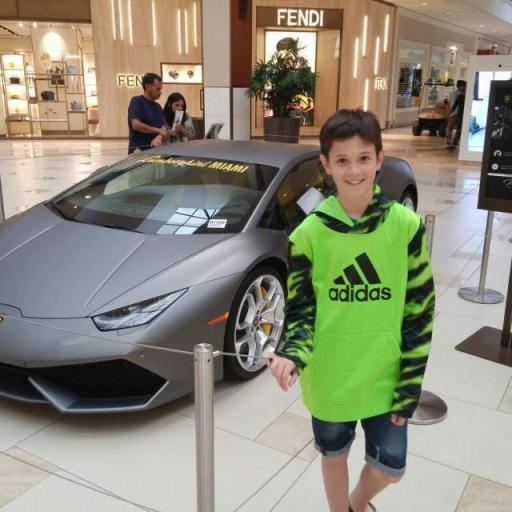Adidas: (326, 250, 394, 304)
